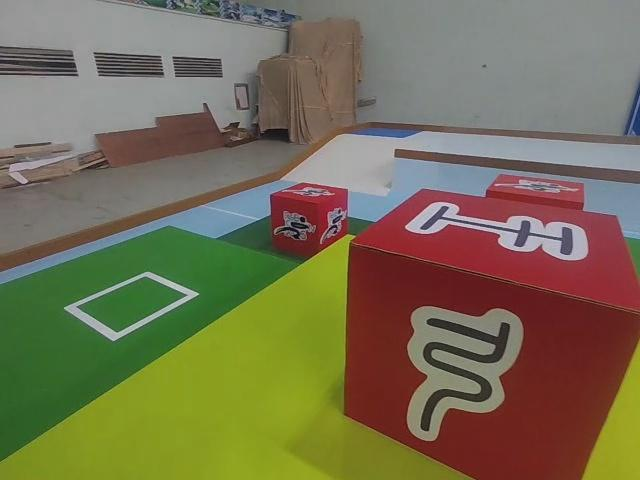R1: (268, 180, 351, 259)
R2 Fake: (344, 187, 640, 480)
